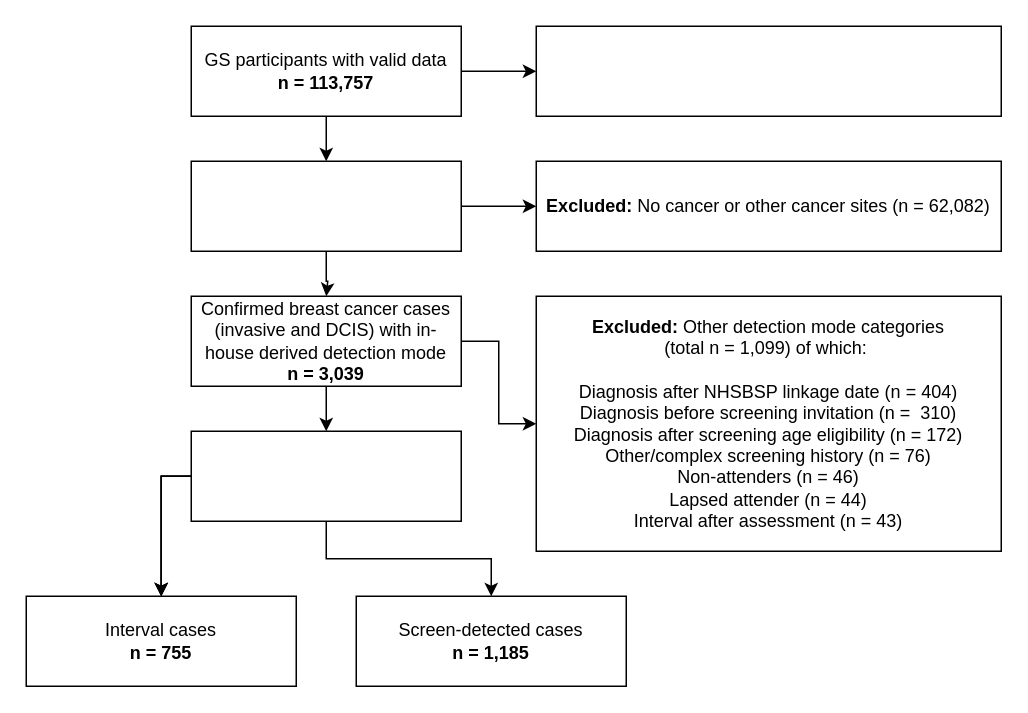
Some shapes in this 1028 by 713 pixel diagram are drawn without their labels. Here are the shapes that lost their labels. From the top down, the centre of each, then its label:
At (768,70): "Excluded: Not linked with NHSBSP ( n = 48,636)".
At (325,205): "Linked with the NHSBSP and attended screening n = 65,121".
At (325,475): "Interval and screen-detected cases n = 1,940".
